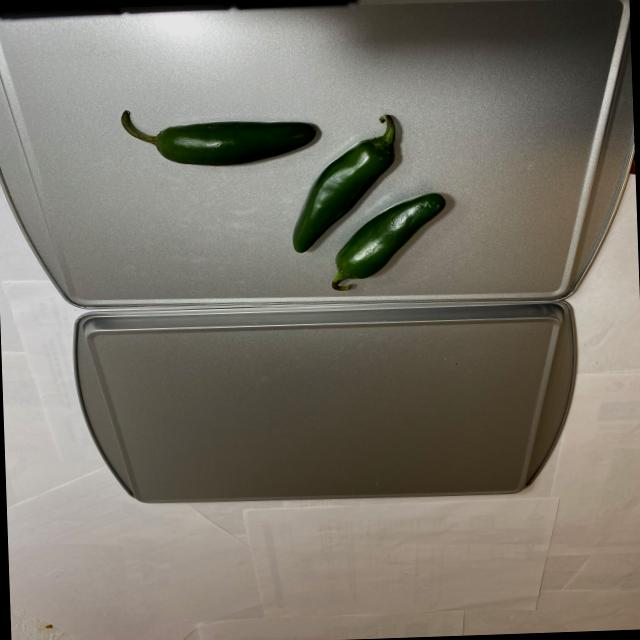chilli: (112, 87, 452, 304)
